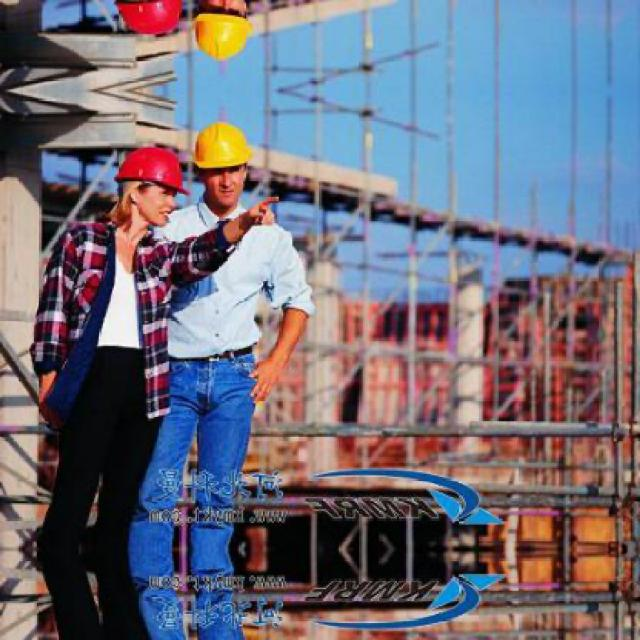con casco: (86, 139, 190, 245), (197, 116, 278, 214)
